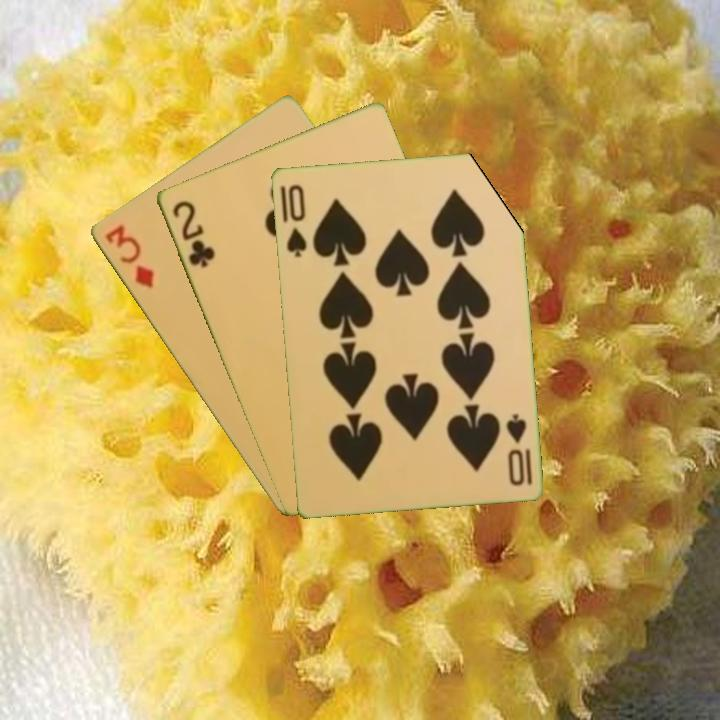10s: (502, 409, 535, 488), (282, 180, 309, 260)
2c: (168, 196, 217, 270)
3d: (100, 221, 157, 291)
